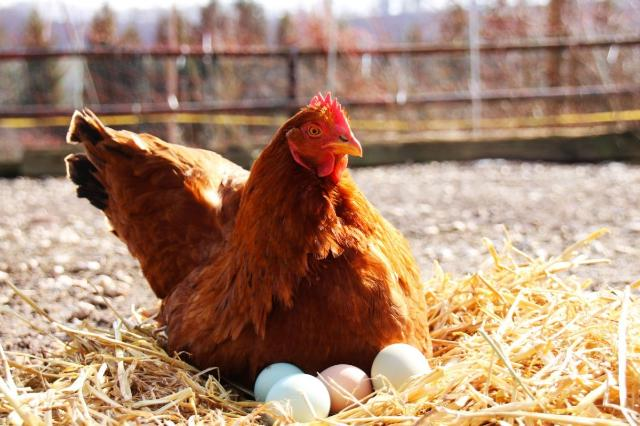Chicken: (66, 90, 432, 386)
